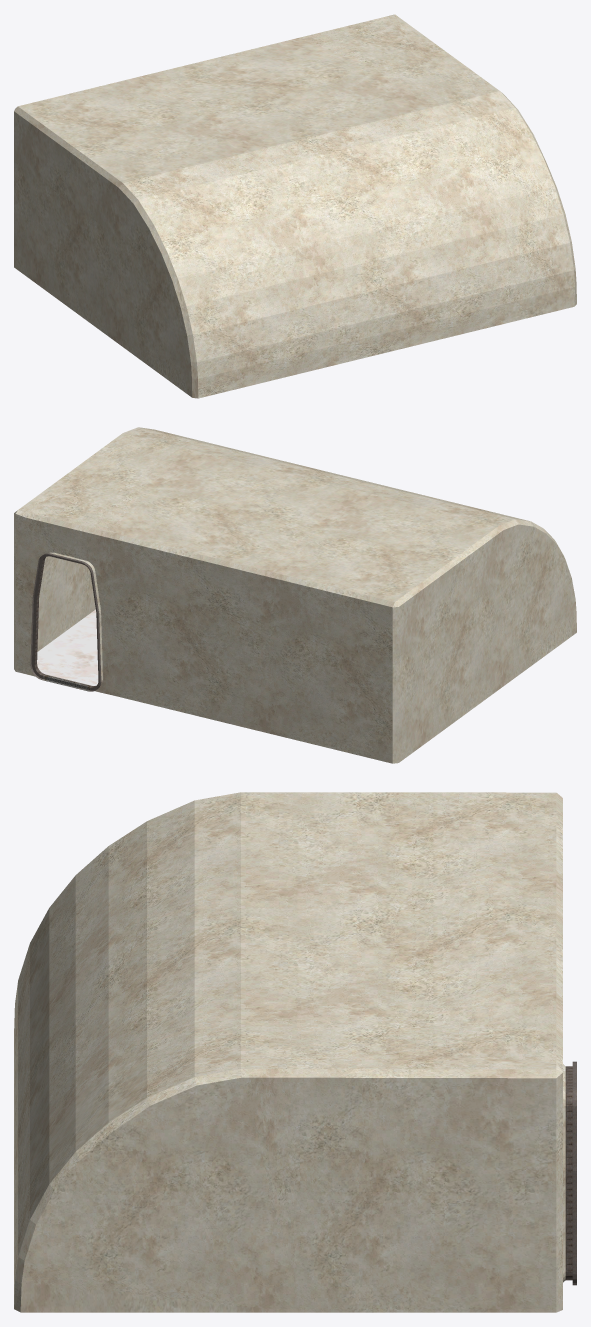
File: thm_tato_assoc_hall_civ_s02_r20_bedroom7_mesh_r20.fbx
The picture shows the model from 3 angles, top to bottom: view 1: azimuth 30°, elevation 25°; view 2: azimuth 150°, elevation 25°; view 3: azimuth 270°, elevation 25°; orthographic projection. The views are drawn at different scales.
Visible parts, largest first — view 1: mesh_node; view 2: mesh_node; view 3: mesh_node.
Part boxes in pixels (x1=…): mesh_node: x1=14, y1=14, x2=576, y2=398; mesh_node: x1=14, y1=427, x2=576, y2=763; mesh_node: x1=14, y1=792, x2=576, y2=1312.
Bounding box in the file's own units: 10.07 × 4.01 × 8.49.
